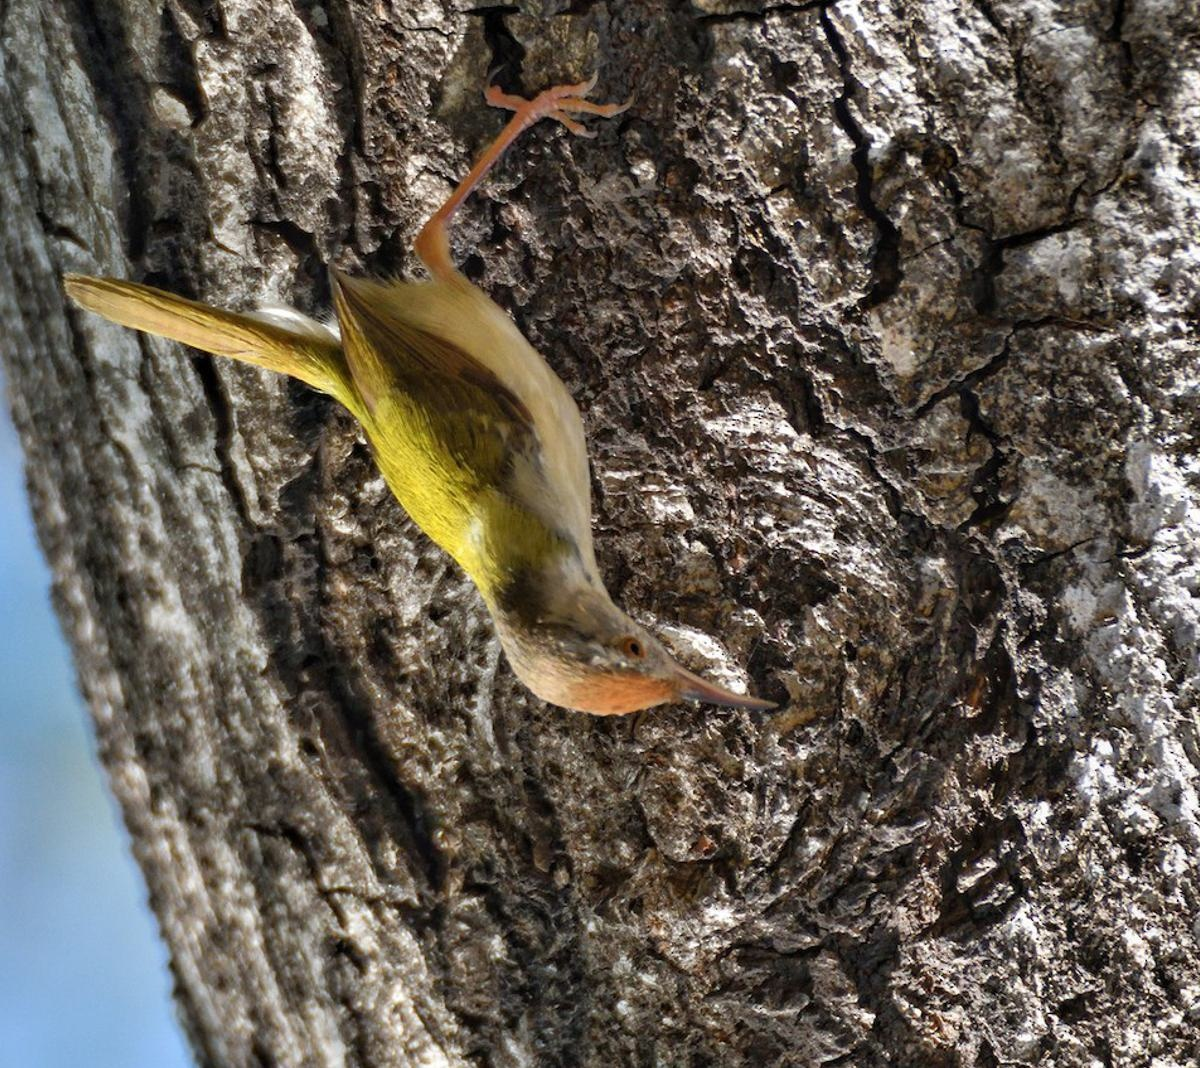tailorbird: (66, 111, 794, 763)
